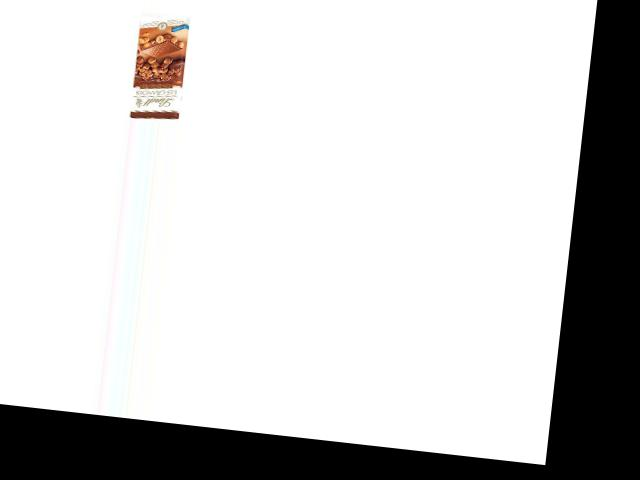chocolate: (122, 16, 192, 120)
